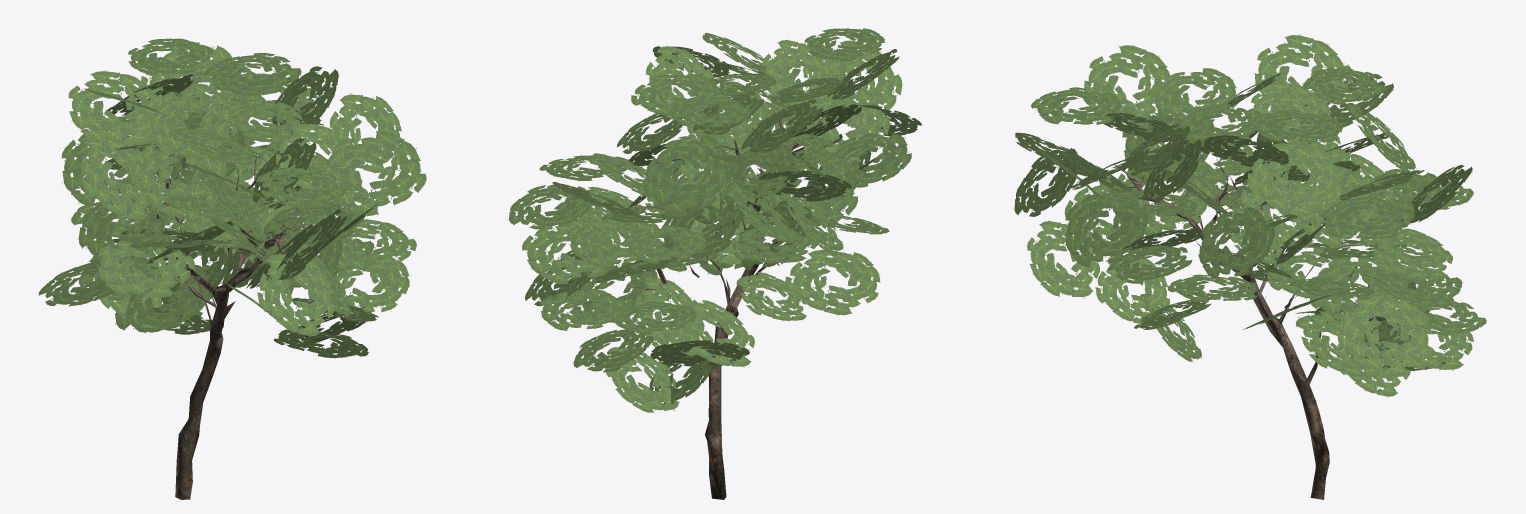
Rendered from tree-small-02-far.glb.
3 renders of one model, left to right at view 1: azimuth 30°, elevation 25°; view 2: azimuth 150°, elevation 25°; view 3: azimuth 270°, elevation 25°, orthographic. The views are drawn at different scales.
Parts seen in each view (by area): view 1: tree_small_02_LOD0; view 2: tree_small_02_LOD0; view 3: tree_small_02_LOD0.
Boxes of the visible parts, bbox=[...] form: tree_small_02_LOD0: bbox=[38, 38, 426, 499]; tree_small_02_LOD0: bbox=[507, 28, 921, 499]; tree_small_02_LOD0: bbox=[1013, 34, 1486, 499].
Bounding box in the file's own units: 4.43 × 4.68 × 5.37.
Materials: 3 (3 with a texture image).
